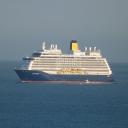cruises: (15, 40, 117, 87)
